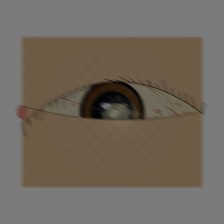corneal_ulcer: (94, 97, 139, 133)
